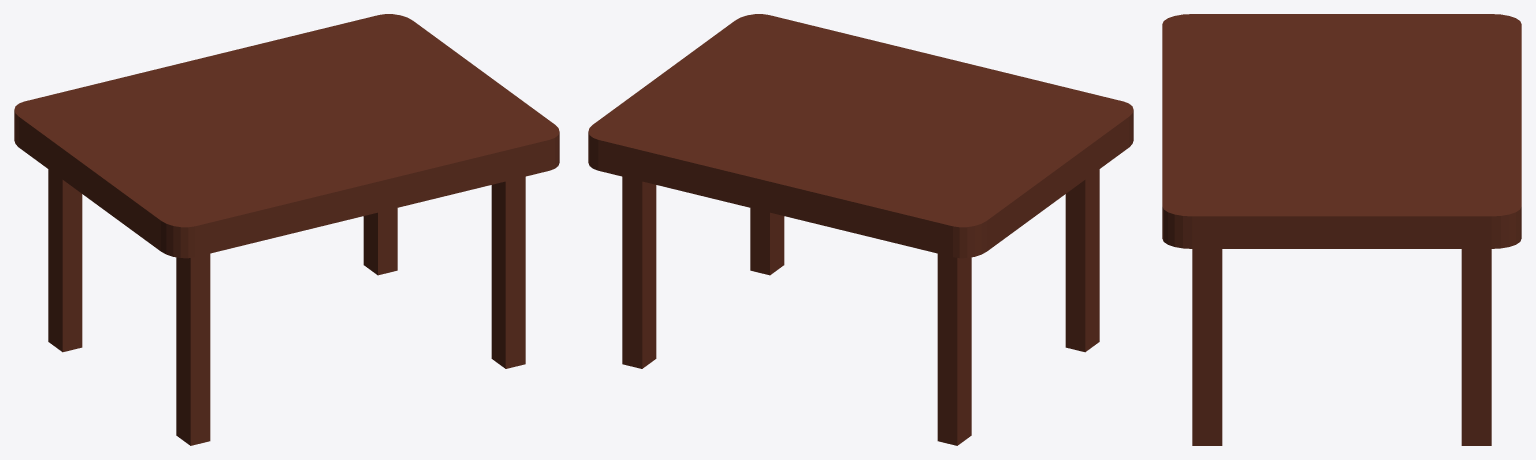
The model's file is masa.fbx.
3 views of the same model, side by side, from view 1: azimuth 30°, elevation 25°; view 2: azimuth 150°, elevation 25°; view 3: azimuth 270°, elevation 25° (orthographic). The views are drawn at different scales.
Visible parts, largest first — view 1: Cube.003; view 2: Cube.003; view 3: Cube.003.
Part boxes in pixels (x1=…): Cube.003: x1=14, y1=14, x2=559, y2=445; Cube.003: x1=588, y1=14, x2=1133, y2=445; Cube.003: x1=1162, y1=14, x2=1521, y2=445.
Bounding box in the file's own units: 200 × 113 × 150.
